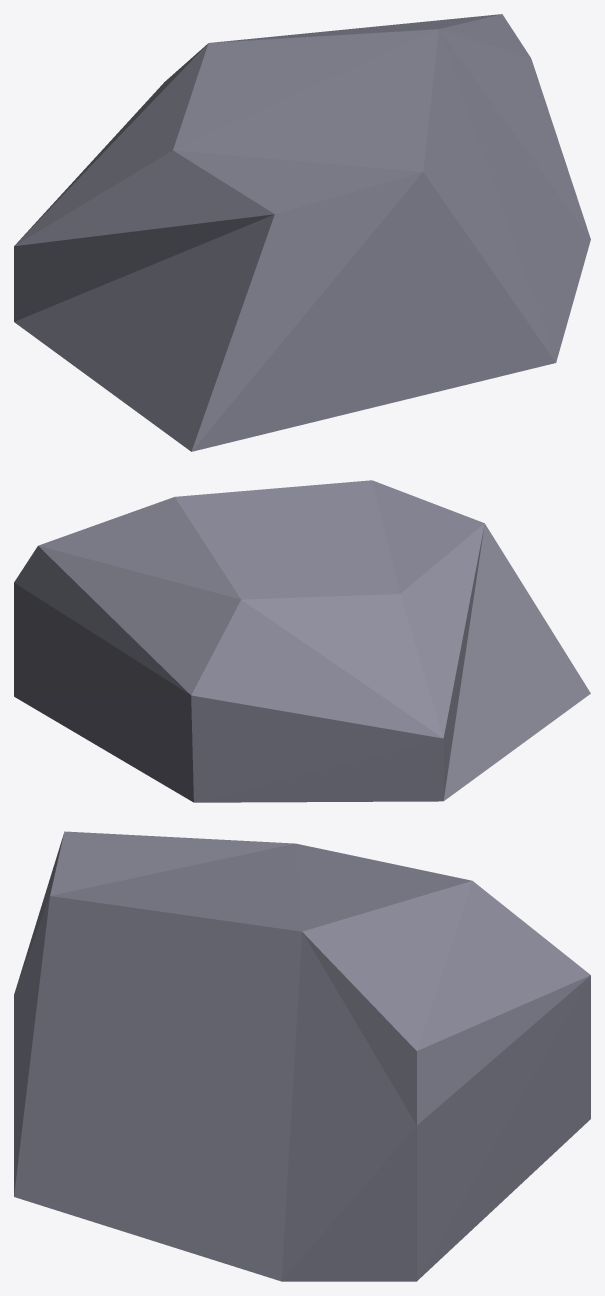
The model's file is rock_c.glb.
3 views of the same model, one above another, from view 1: azimuth 30°, elevation 25°; view 2: azimuth 150°, elevation 25°; view 3: azimuth 270°, elevation 25° (orthographic). The views are drawn at different scales.
Visible parts, largest first — view 1: Material_001-material.153; view 2: Material_001-material.153; view 3: Material_001-material.153.
Part boxes in pixels (box(x1,y1,x2,y2)): Material_001-material.153: box(14, 14, 590, 451); Material_001-material.153: box(14, 480, 590, 802); Material_001-material.153: box(14, 831, 590, 1281).
Bounding box in the file's own units: 1.34 × 0.5881 × 1.14.
Materials: 1 (1 with a texture image).
